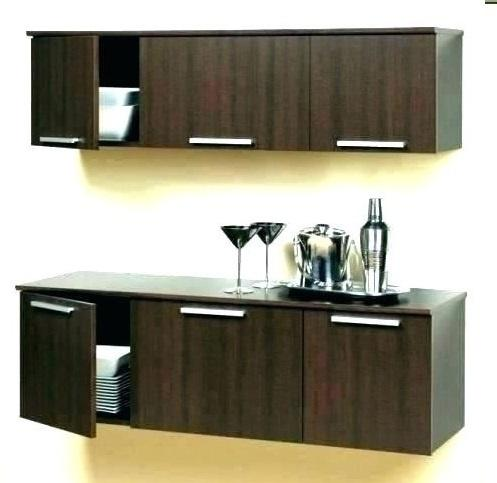cabinet_door: (132, 306, 303, 439), (139, 36, 309, 149), (302, 310, 427, 441), (307, 41, 430, 151), (21, 302, 96, 430), (30, 35, 99, 147)
handle: (333, 133, 409, 153), (177, 305, 249, 325), (330, 312, 406, 330), (185, 134, 258, 149), (29, 298, 78, 317), (36, 134, 89, 146)
